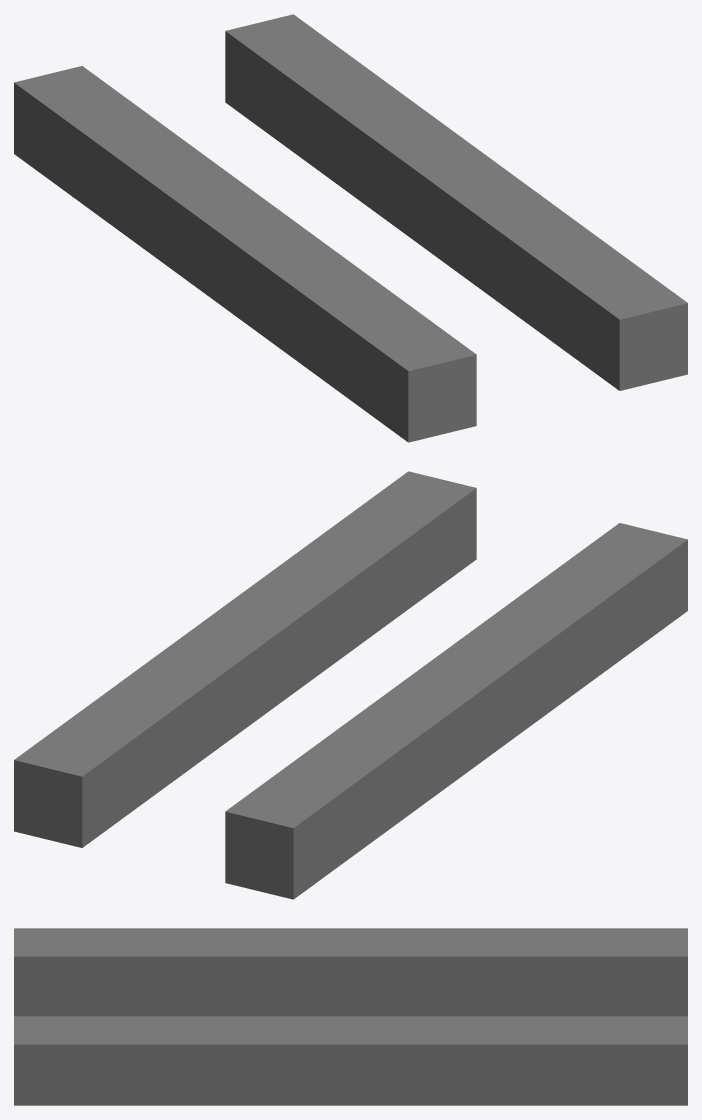
The model's file is Medium_AA_GUNS.fbx.
The picture shows the model from 3 angles, top to bottom: view 1: azimuth 30°, elevation 25°; view 2: azimuth 150°, elevation 25°; view 3: azimuth 270°, elevation 25°; orthographic projection. The views are drawn at different scales.
Parts seen in each view (by area): view 1: TG; view 2: TG; view 3: TG.
Part boxes in pixels (<box>): TG: <box>14,14,687,442</box>; TG: <box>14,471,687,899</box>; TG: <box>14,928,687,1105</box>.
Bounding box in the file's own units: 15.64 × 3.82 × 38.24.
Materials: 1 (1 with a texture image).
